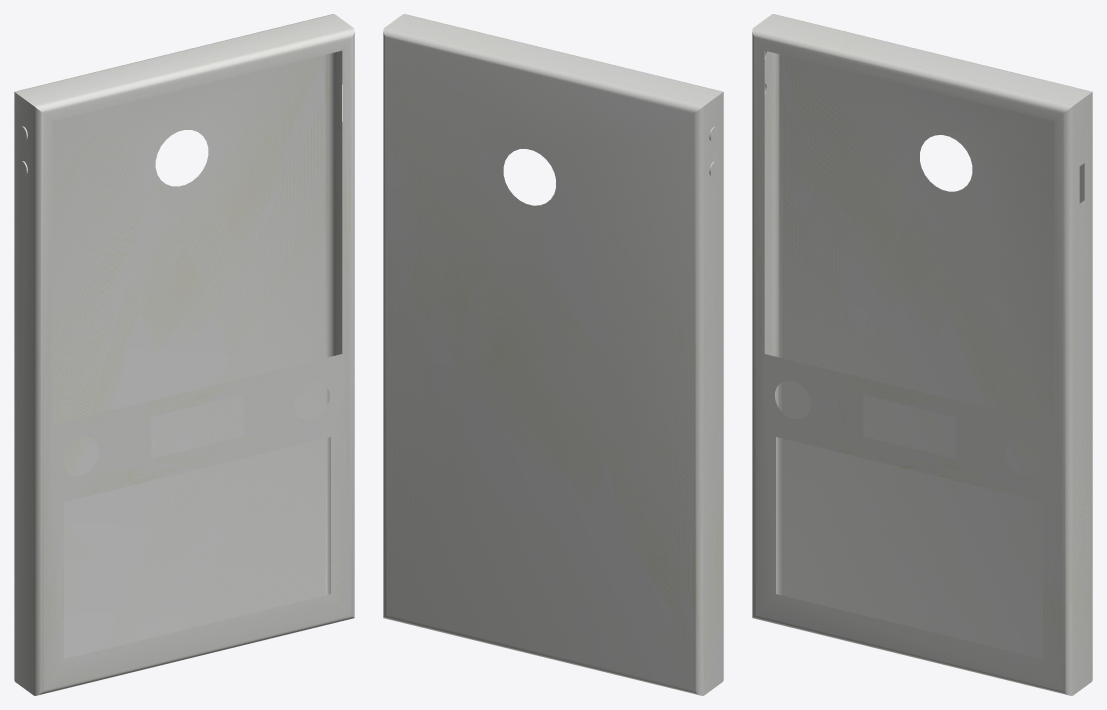
File: original-44.obj
3 views of the same model, side by side, from view 1: azimuth 30°, elevation 25°; view 2: azimuth 150°, elevation 25°; view 3: azimuth 330°, elevation 25° (orthographic).
Visible parts, largest first — view 1: mesh52/mesh52-geometry/material_0/component_0#mesh52-geometry; view 2: mesh52/mesh52-geometry/material_0/component_0#mesh52-geometry; view 3: mesh52/mesh52-geometry/material_0/component_0#mesh52-geometry.
Part boxes in pixels (<box>): mesh52/mesh52-geometry/material_0/component_0#mesh52-geometry: <box>14,14,354,695</box>; mesh52/mesh52-geometry/material_0/component_0#mesh52-geometry: <box>383,14,723,695</box>; mesh52/mesh52-geometry/material_0/component_0#mesh52-geometry: <box>752,14,1092,695</box>.
Size of the model in its own units: 1.01 by 1.77 by 0.1418.
